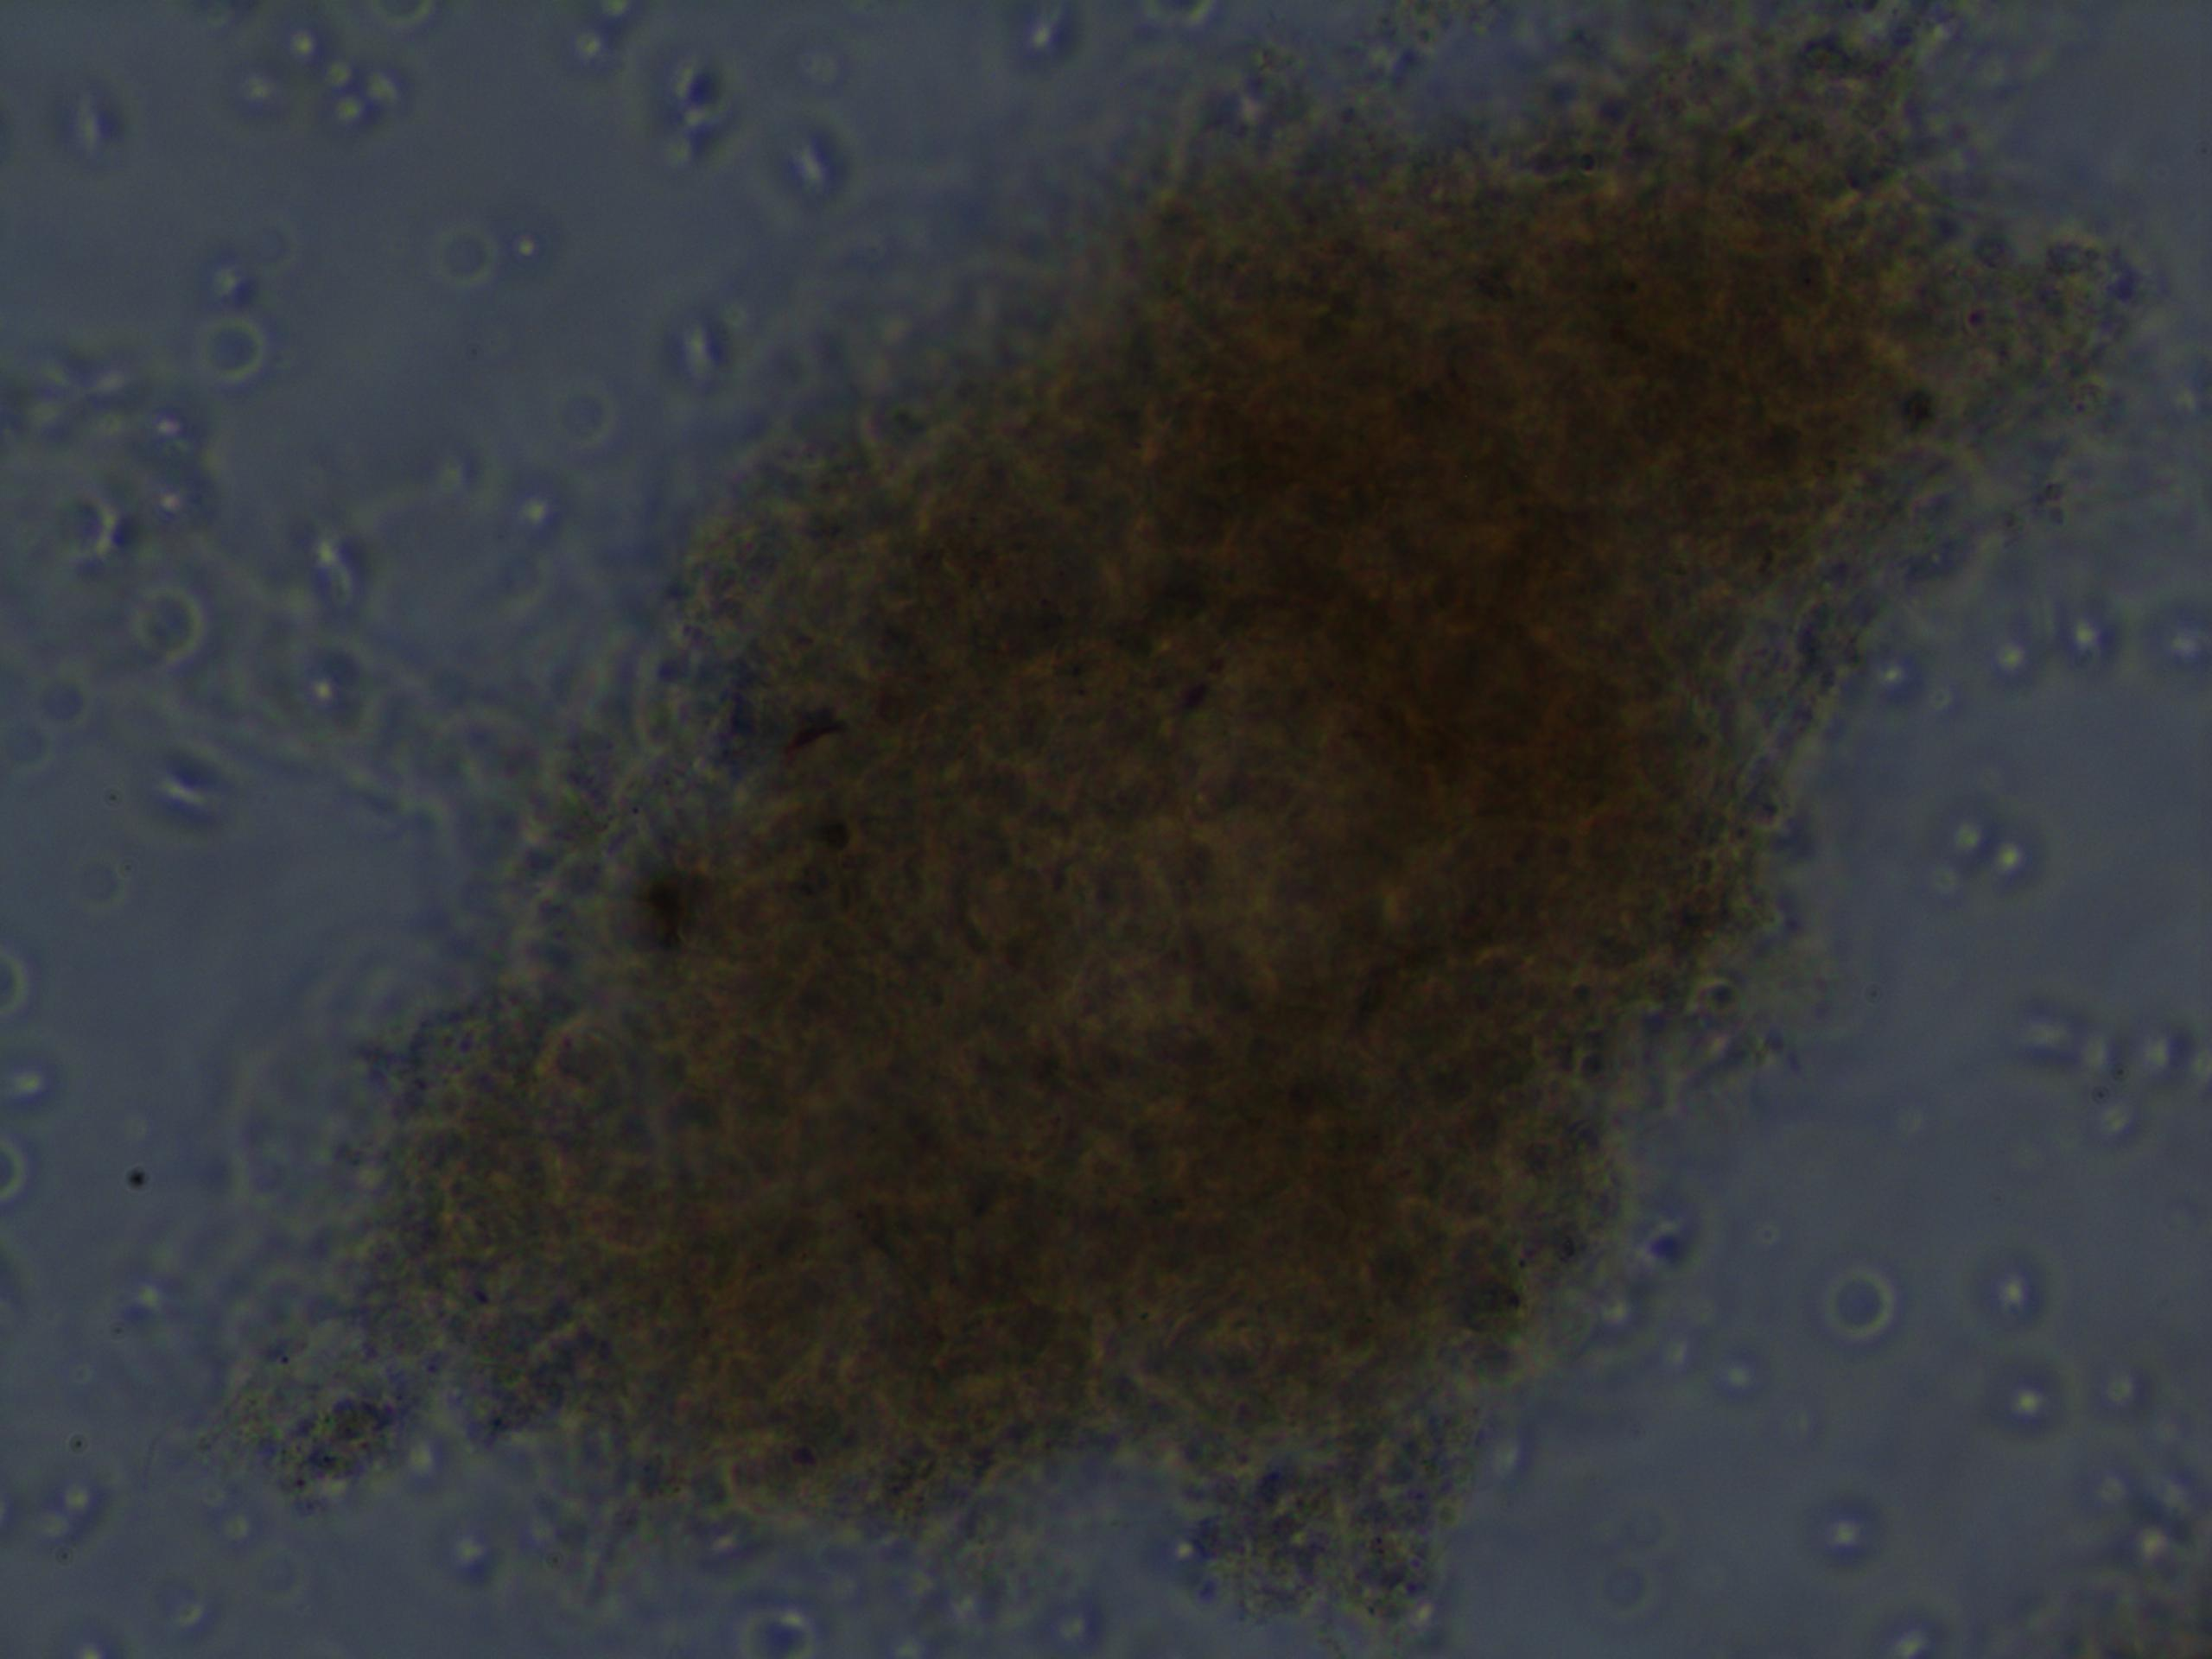spherical_floc: (406, 44, 2048, 1612)
